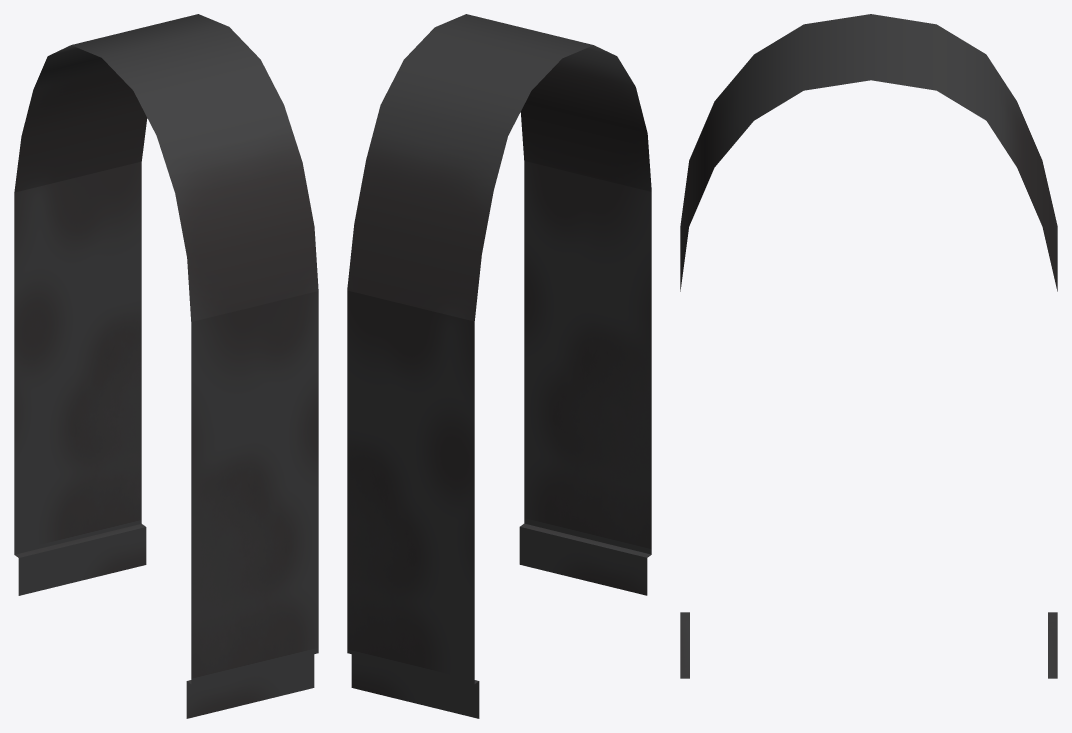
Rendered from SM_Arched_wall_inner.fbx.
The picture shows the model from 3 angles, left to right: view 1: azimuth 30°, elevation 25°; view 2: azimuth 150°, elevation 25°; view 3: azimuth 270°, elevation 25°; orthographic projection. The views are drawn at different scales.
Visible parts, largest first — view 1: Arched_wall_inner; view 2: Arched_wall_inner; view 3: Arched_wall_inner.
Boxes of the visible parts, x1,y1,x2,y2 form: Arched_wall_inner: (14,14,318,718); Arched_wall_inner: (347,14,651,718); Arched_wall_inner: (680,14,1057,678).
Bounding box in the file's own units: 100 × 449 × 240.
